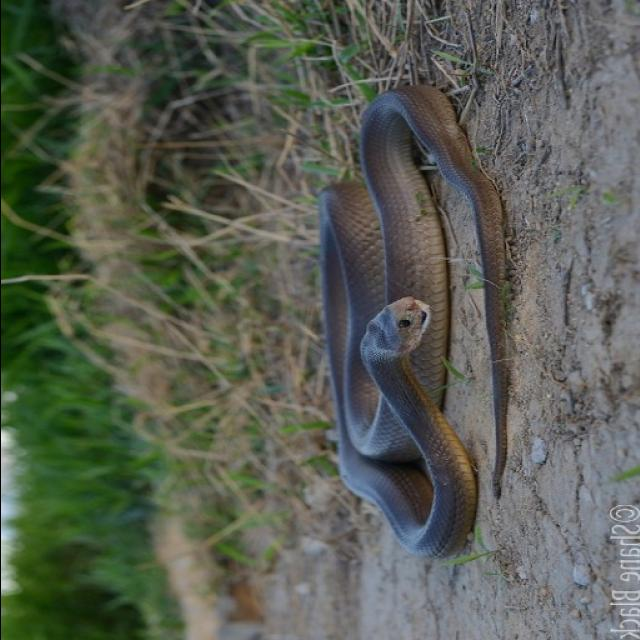snake: (302, 80, 516, 568)
